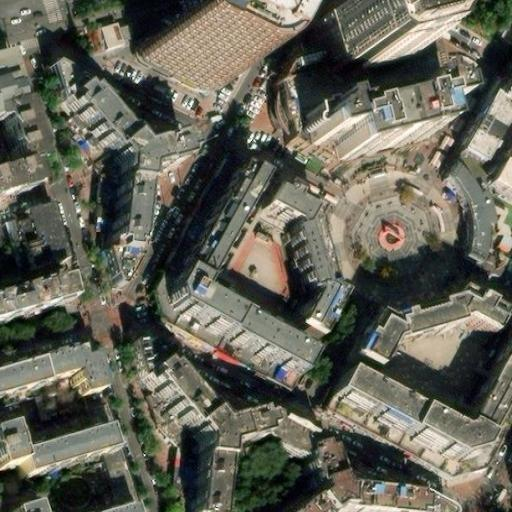building: (154, 23, 430, 304), (51, 49, 190, 284), (149, 373, 266, 512), (293, 44, 429, 155), (343, 283, 504, 369), (350, 298, 499, 383), (173, 170, 252, 295), (136, 28, 250, 107), (270, 224, 331, 339), (294, 458, 409, 512), (135, 19, 254, 65), (0, 420, 110, 469), (332, 383, 416, 444), (217, 324, 300, 379), (449, 159, 497, 243), (12, 192, 65, 266), (160, 285, 226, 341), (405, 423, 481, 470), (243, 182, 305, 235), (29, 339, 96, 388), (259, 421, 321, 469), (98, 444, 140, 512), (0, 280, 61, 324), (0, 109, 40, 174), (244, 471, 300, 512), (324, 479, 408, 504), (96, 17, 126, 49), (405, 488, 441, 512), (14, 498, 51, 512), (496, 158, 512, 189)
